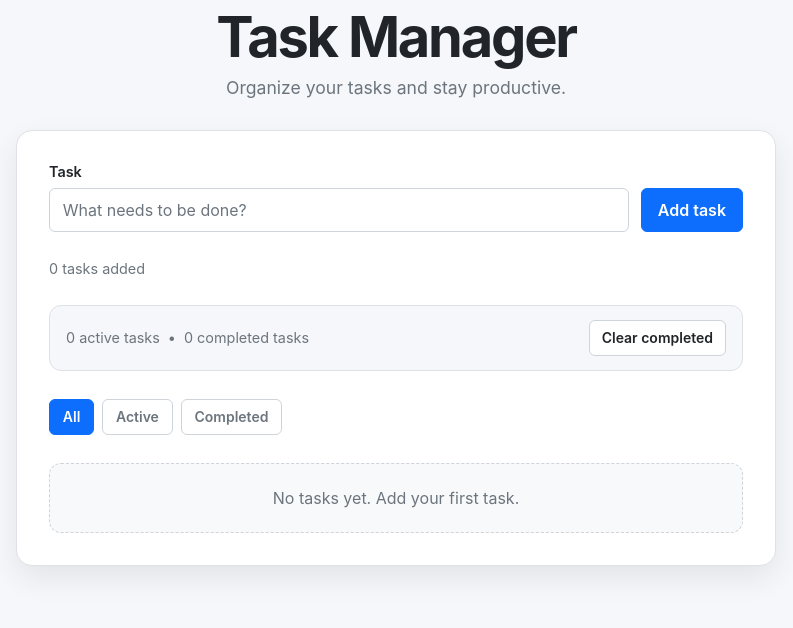
App › allows a user to delete a task
Type "Buy groceries" into the field labelled "Task" at coordinates (339, 210), box [49,188,629,232]
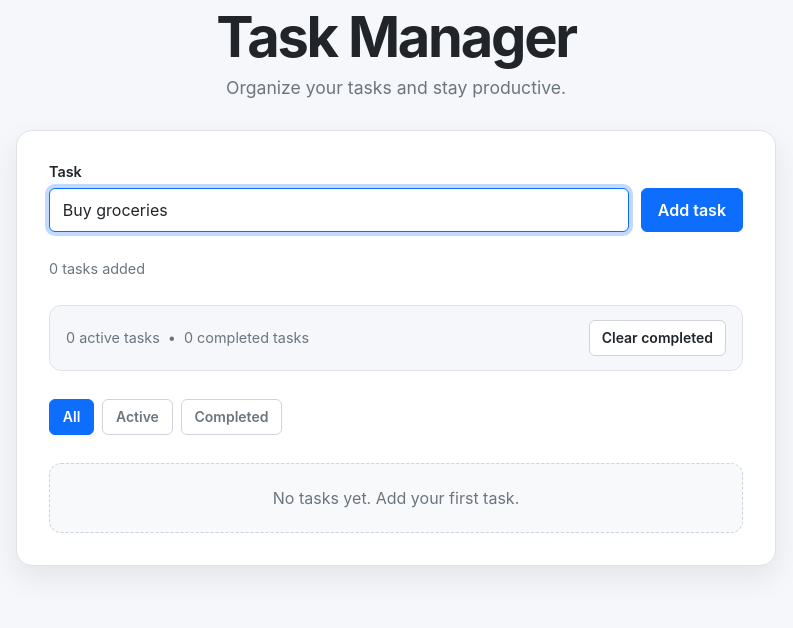
Click the button "Add task" at coordinates (692, 210), box [641,188,743,232]
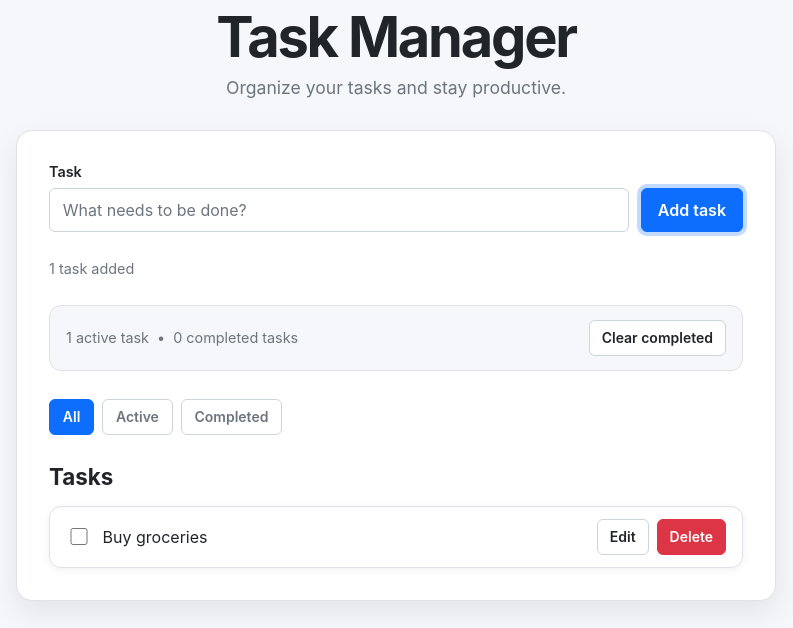
Now the text "Buy groceries" is shown, box [103,527,208,547]
Now the text "1 task added" is shown, box [49,260,134,277]
Click the button "Delete" at coordinates (691, 537), box [657,519,726,555]
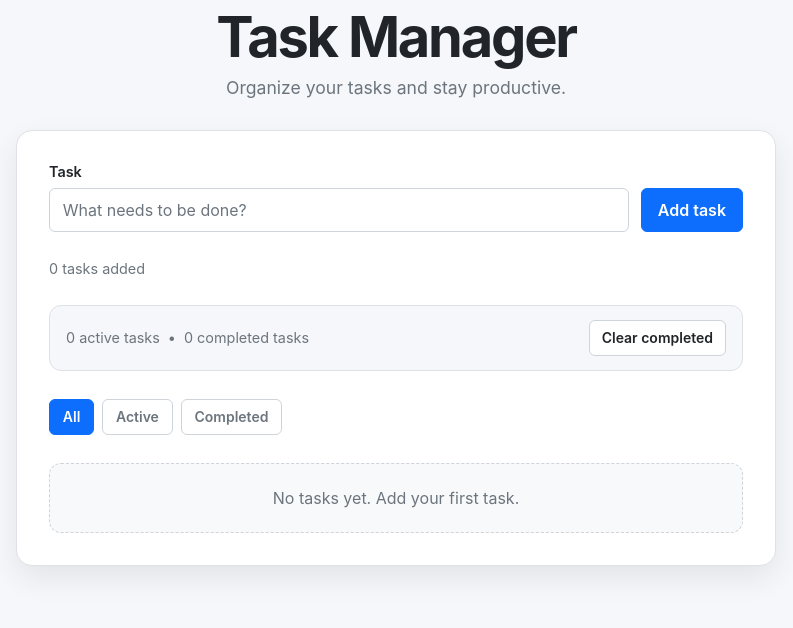
Now the text "Buy groceries" is gone
Now the text "0 tasks added" is shown, box [49,260,145,277]
